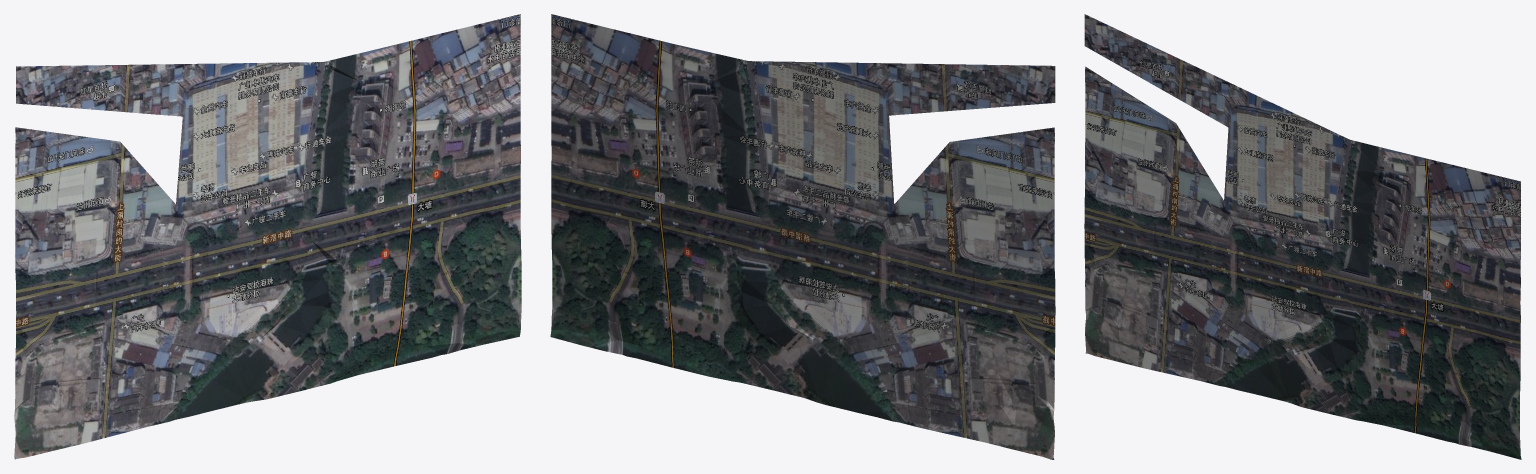
3 renders of one model, left to right at view 1: azimuth 30°, elevation 25°; view 2: azimuth 150°, elevation 25°; view 3: azimuth 330°, elevation 25°, orthographic. The views are drawn at different scales.
Parts seen in each view (by area): view 1: 0_2_3_1_0_1; view 2: 0_2_3_1_0_1; view 3: 0_2_3_1_0_1.
Part boxes in pixels (x1=…): 0_2_3_1_0_1: x1=14, y1=14, x2=521, y2=459; 0_2_3_1_0_1: x1=550, y1=14, x2=1055, y2=459; 0_2_3_1_0_1: x1=1084, y1=14, x2=1521, y2=459.
Bounding box in the file's own units: 486 × 363 × 5.67.
1 material, 1 textured.
